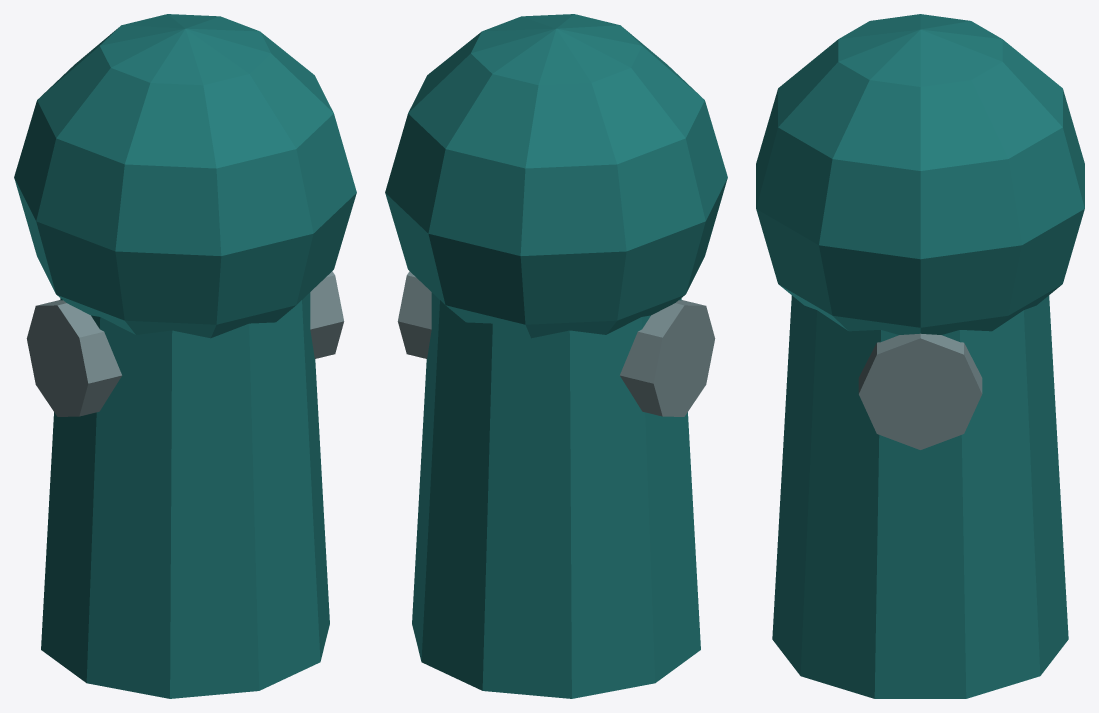
Rendered from prop_hydrant.glb.
The picture shows the model from 3 angles, left to right: view 1: azimuth 30°, elevation 25°; view 2: azimuth 150°, elevation 25°; view 3: azimuth 270°, elevation 25°; orthographic projection.
Parts seen in each view (by area): view 1: rough, metallic; view 2: rough, metallic; view 3: rough, metallic.
Boxes of the visible parts, x1=… form: rough: x1=14, y1=14, x2=356, y2=698; metallic: x1=26, y1=271, x2=344, y2=416; rough: x1=385, y1=14, x2=727, y2=698; metallic: x1=397, y1=271, x2=715, y2=416; rough: x1=756, y1=14, x2=1084, y2=698; metallic: x1=858, y1=333, x2=982, y2=449.
Bounding box in the file's own units: 0.56 × 1.09 × 0.5326.
